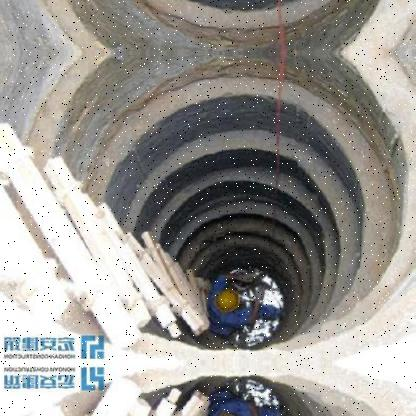helmet: (212, 288, 244, 309)
